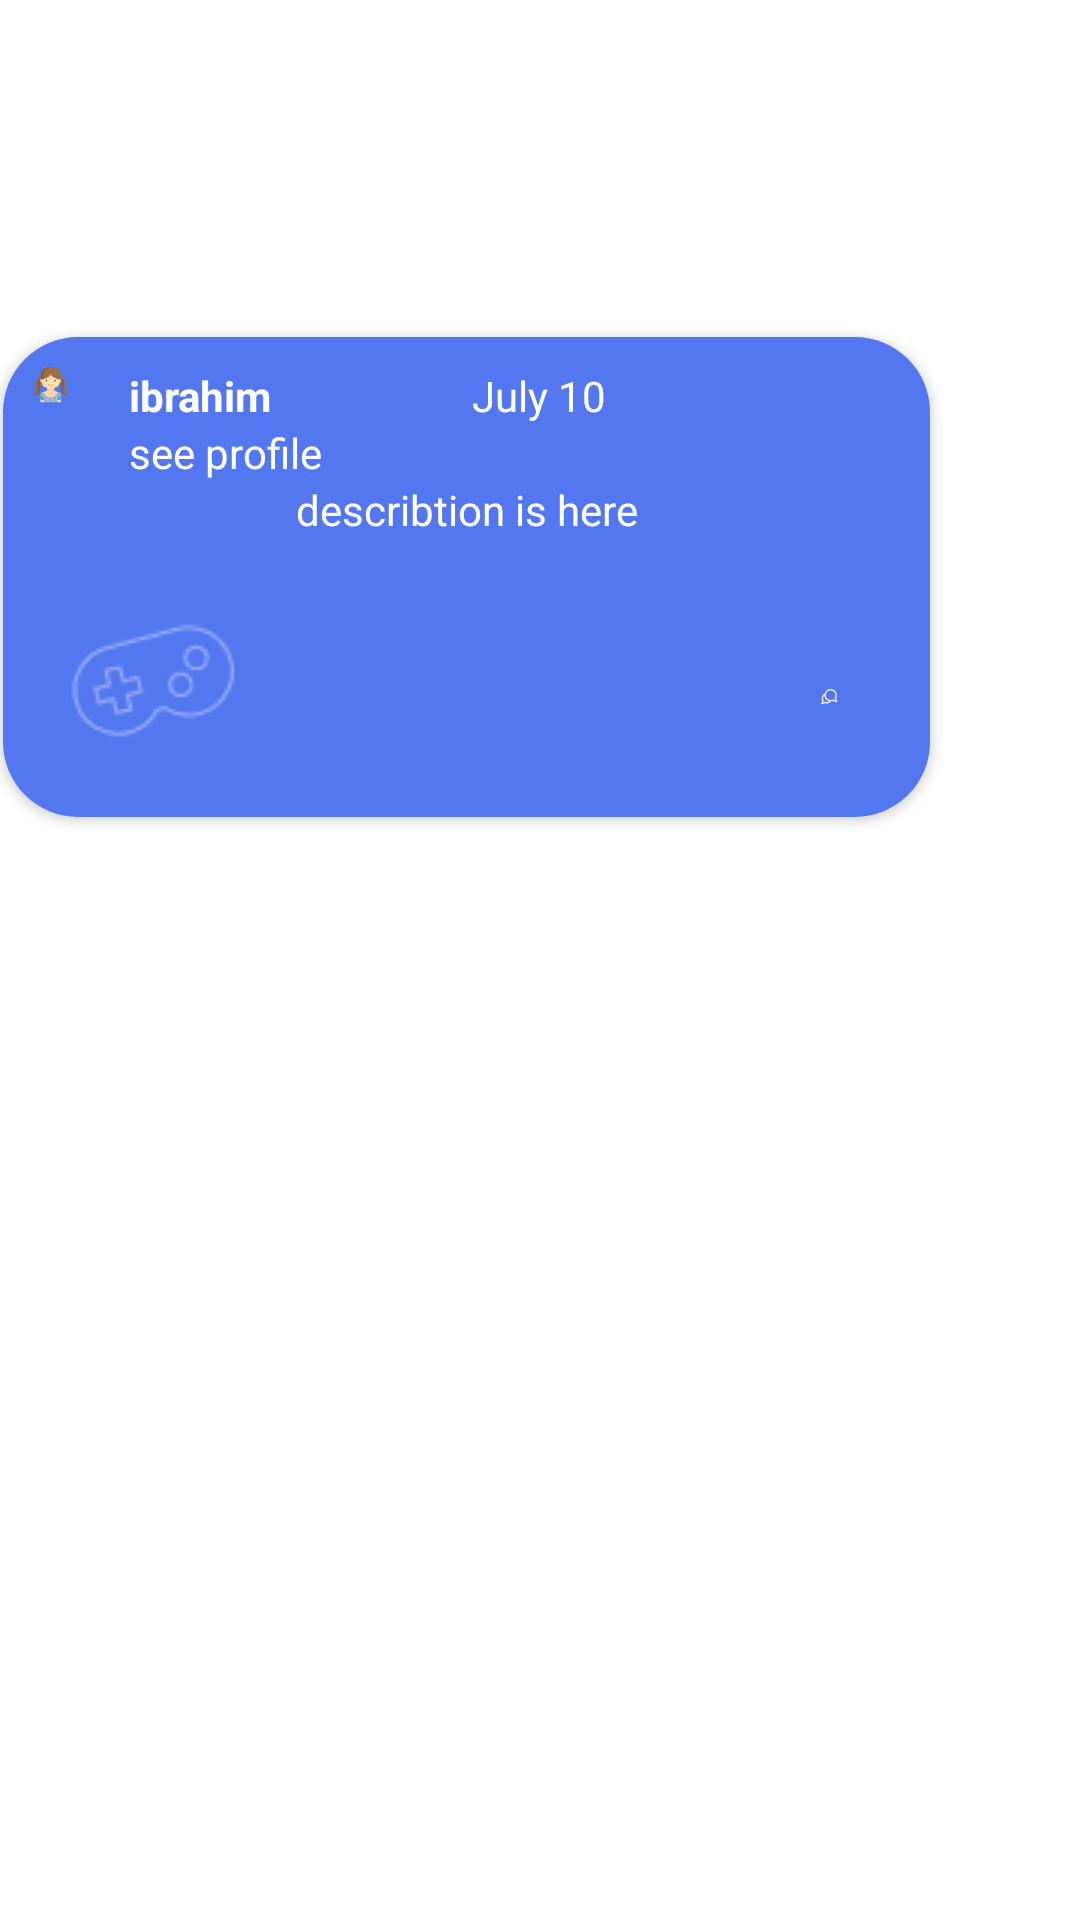

Screen size 1080x1920. Icon name, then its box in pixels as (x1, y1, x2, y2):
gamepad variant: (73, 625, 234, 736)
girl: (34, 367, 67, 403)
